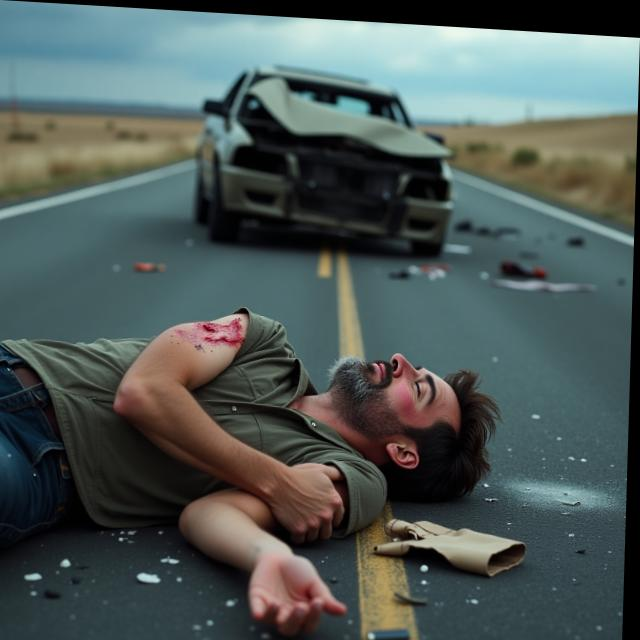injury: (160, 306, 267, 370)
